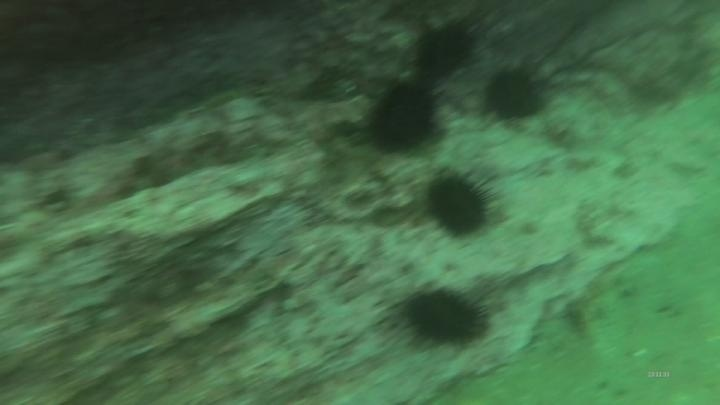echinus: (391, 280, 495, 353), (362, 77, 446, 159), (419, 164, 503, 243), (477, 59, 552, 129), (410, 18, 480, 83)
